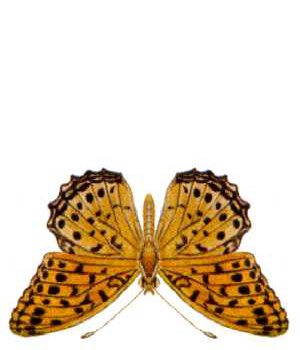Argyreus hyperbius: (6, 162, 291, 342)
butterfly: (8, 164, 293, 344)
